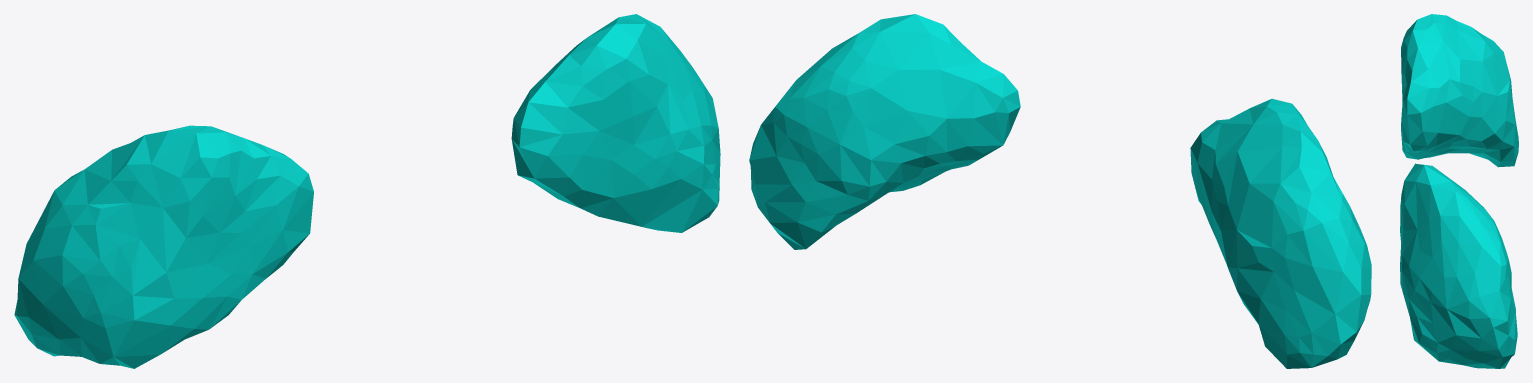
Rendered from 29-MPul-medial pulvinar-('0.0000', '1.0000', '0.9608').obj.
3 views of the same model, side by side, from view 1: azimuth 30°, elevation 25°; view 2: azimuth 150°, elevation 25°; view 3: azimuth 270°, elevation 25° (orthographic). The views are drawn at different scales.
Size of the model in its own units: 113 by 38.44 by 23.6.
